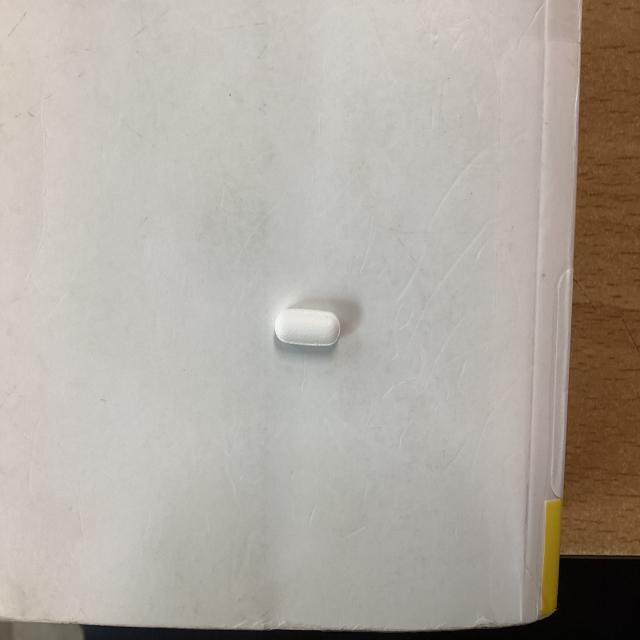-: (271, 294, 350, 365)
